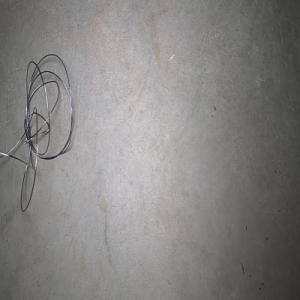Wire: (0, 53, 72, 212)
